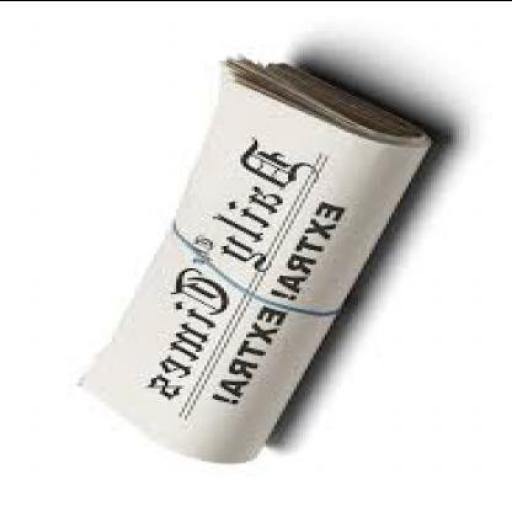paper: (76, 58, 428, 461)
